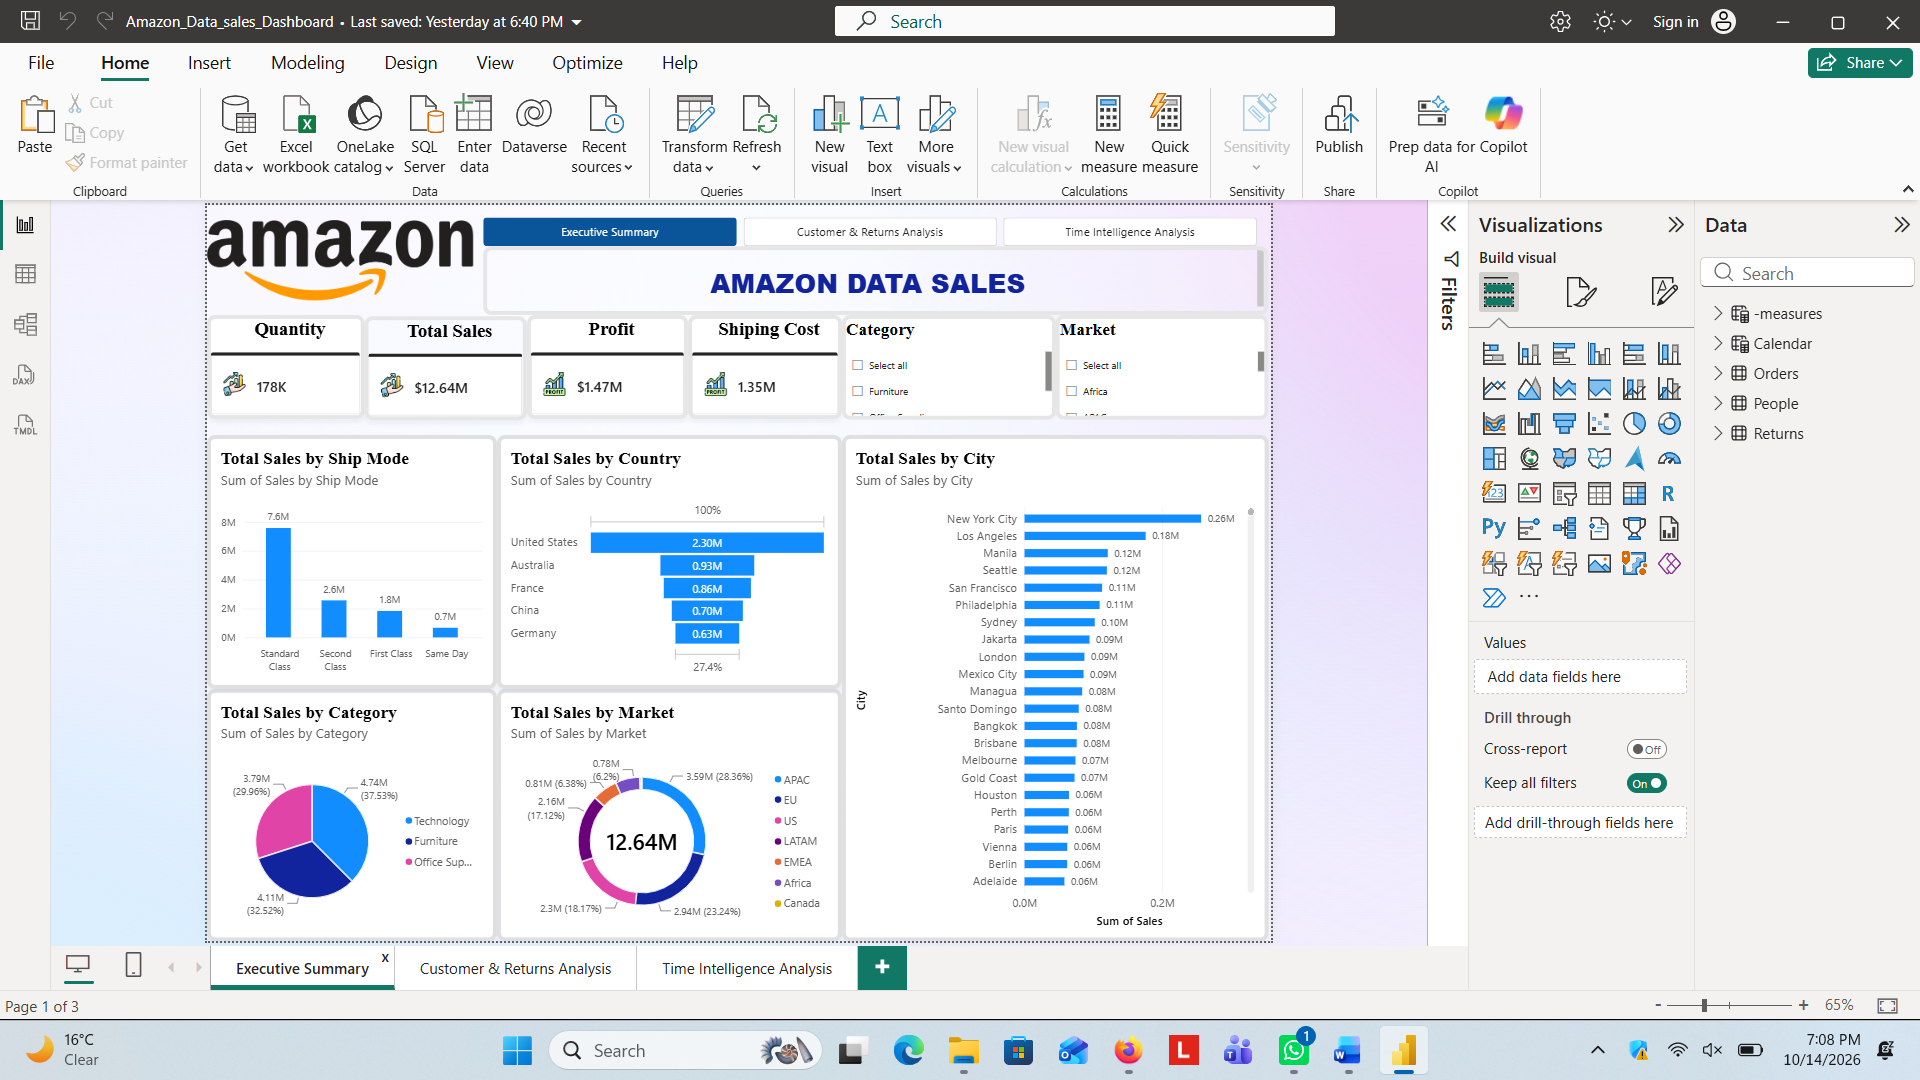

The page's visual inventory and layout, read from the dashboard file:
{"tool":"powerbi","page":{"name":"Executive Summary","canvas":[1300,900],"ordinal":0},"visuals":[{"type":"pieChart","title":"Total Sales by Category","fields":{"Category":["Orders.Category"],"Y":["Sum(Orders.Sales)"]},"box":[0,591.5,354.6,308.8],"z":0},{"type":"donutChart","title":"Total Sales by Market","fields":{"Category":["Orders.Market"],"Y":["Sum(Orders.Sales)"]},"box":[354.6,591.5,421.9,308.8],"z":1000},{"type":"columnChart","title":"Total Sales by Ship Mode","fields":{"Category":["Orders.Ship Mode"],"Y":["Sum(Orders.Sales)"]},"box":[0,281.3,354.6,310.3],"z":2000},{"type":"clusteredBarChart","title":"Total Sales by City","fields":{"Category":["Orders.City"],"Y":["Sum(Orders.Sales)"]},"box":[776.5,281.3,521.2,619.1],"z":3000},{"type":"funnel","title":"Total Sales by Country","fields":{"Category":["Orders.Country"],"Y":["Sum(Orders.Sales)"]},"box":[354.6,281.3,421.9,310.3],"z":4000},{"type":"textbox","box":[337.8,50.4,959.9,84.1],"z":5000},{"type":"cardVisual","title":"Quantity","fields":{"Data":["-measures.Total Quantity"]},"box":[0,134.5,192.6,126.9],"z":6000},{"type":"cardVisual","title":"Total Sales","fields":{"Data":["-measures.Total Sales"]},"box":[192.6,136,198.7,126.9],"z":7000},{"type":"cardVisual","title":"Shiping Cost","fields":{"Data":["Sum(Orders.Shipping Cost)"]},"box":[588.5,134.5,188,126.9],"z":8000},{"type":"slicer","title":"Category","fields":{"Values":["Orders.Category"]},"box":[776.5,134.5,261.4,128.4],"z":9000},{"type":"slicer","title":"Market","fields":{"Values":["Orders.Market"]},"box":[1037.9,134.5,259.9,128.4],"z":10000},{"type":"cardVisual","title":"Profit","fields":{"Data":["-measures.Total Profit"]},"box":[391.3,134.5,197.2,126.9],"z":11000},{"type":"image","box":[0,0,325.6,134.5],"z":11001},{"type":"pageNavigator","box":[337.8,15.3,947.7,35.2],"z":11002}]}

Visuals, with their boxes on the page's 1300x900 design canvas (x1, y1, x2, y2). These are canvas units, not pixel positions in the 1920x1080 screenshot, which may show the page scaled, cropped or inside an application window:
"Total Sales by Category" pieChart: {"left": 0, "top": 592, "right": 355, "bottom": 900}
"Total Sales by Market" donutChart: {"left": 355, "top": 592, "right": 776, "bottom": 900}
"Total Sales by Ship Mode" columnChart: {"left": 0, "top": 281, "right": 355, "bottom": 592}
"Total Sales by City" clusteredBarChart: {"left": 776, "top": 281, "right": 1298, "bottom": 900}
"Total Sales by Country" funnel: {"left": 355, "top": 281, "right": 776, "bottom": 592}
textbox: {"left": 338, "top": 50, "right": 1298, "bottom": 134}
"Quantity" cardVisual: {"left": 0, "top": 134, "right": 193, "bottom": 261}
"Total Sales" cardVisual: {"left": 193, "top": 136, "right": 391, "bottom": 263}
"Shiping Cost" cardVisual: {"left": 588, "top": 134, "right": 776, "bottom": 261}
"Category" slicer: {"left": 776, "top": 134, "right": 1038, "bottom": 263}
"Market" slicer: {"left": 1038, "top": 134, "right": 1298, "bottom": 263}
"Profit" cardVisual: {"left": 391, "top": 134, "right": 588, "bottom": 261}
image: {"left": 0, "top": 0, "right": 326, "bottom": 134}
pageNavigator: {"left": 338, "top": 15, "right": 1286, "bottom": 50}
